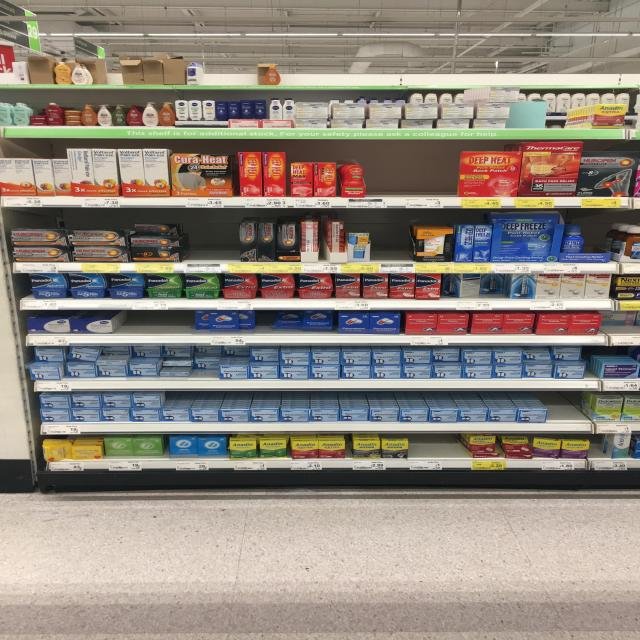void: (371, 210, 410, 273), (425, 140, 453, 209), (393, 141, 420, 209), (550, 390, 591, 433), (208, 208, 235, 273), (283, 52, 325, 92), (363, 53, 405, 91), (368, 140, 391, 209), (322, 53, 362, 90), (184, 208, 207, 272), (487, 55, 527, 90), (406, 54, 445, 89), (527, 54, 564, 90), (448, 55, 484, 91), (604, 54, 639, 90), (567, 54, 601, 90), (116, 311, 151, 345), (154, 312, 189, 344), (436, 434, 467, 470), (234, 49, 258, 90), (208, 49, 232, 89), (411, 435, 434, 470)
